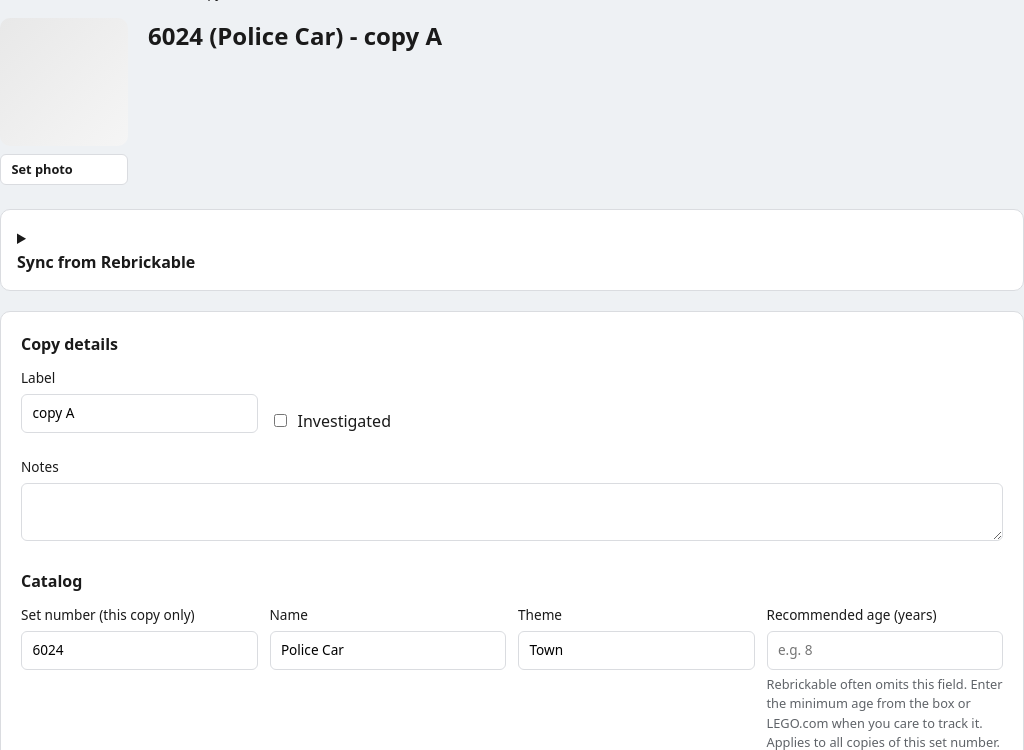
Test: SetDetailPage › shows set number warning and restores on cancel
The image size is (1024, 750).
Expected: the heading "Copy details" is shown, [21, 333, 118, 355]
Replace the text in the field showing "6024" with "8888" at (139, 650), box [21, 631, 258, 670]
(page scrolled)
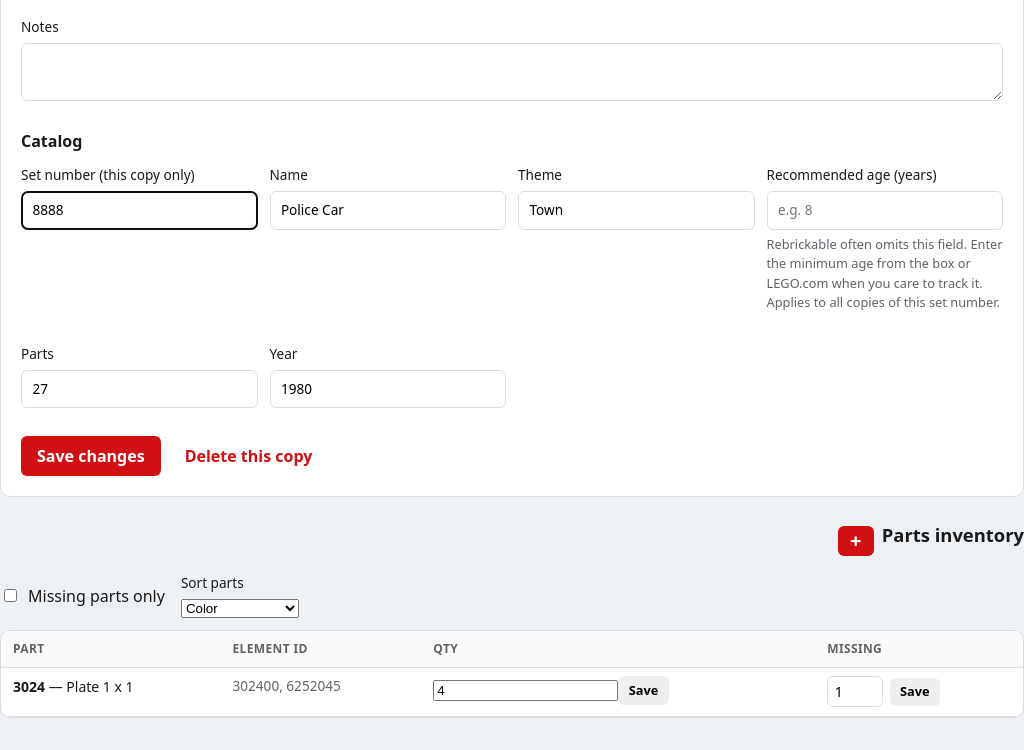
Click the button "Save changes".
click(91, 456)  # box [21, 436, 161, 476]
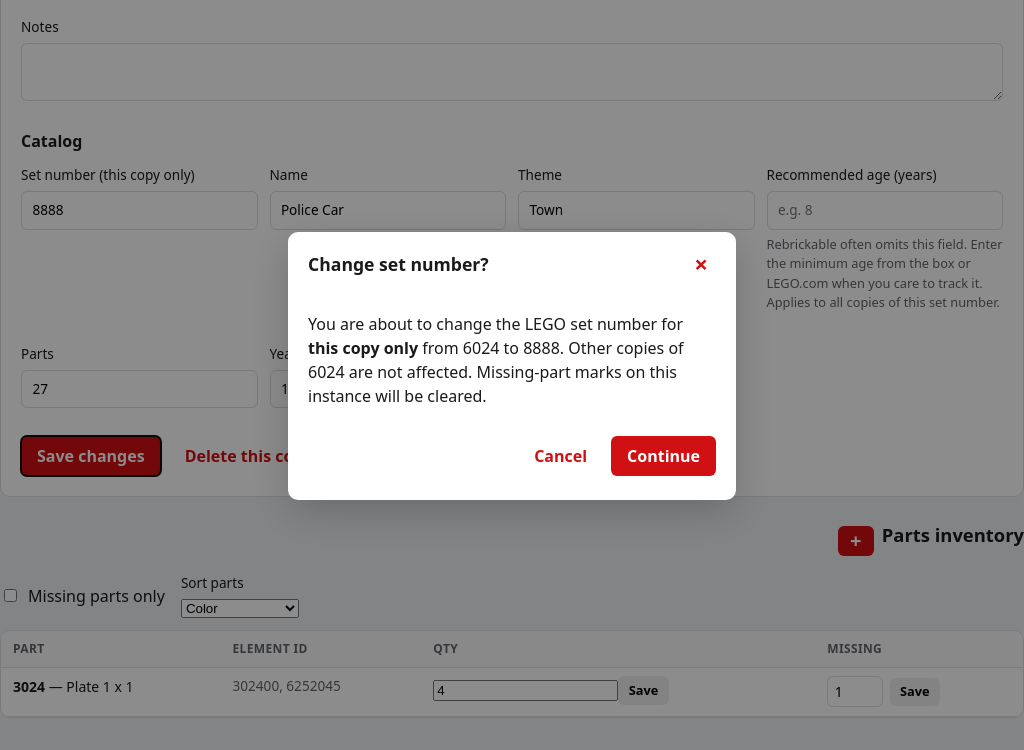
Now the heading "Change set number?" is shown, box [308, 251, 489, 277]
Click the button "Cancel".
click(561, 456)  # box [518, 436, 603, 476]
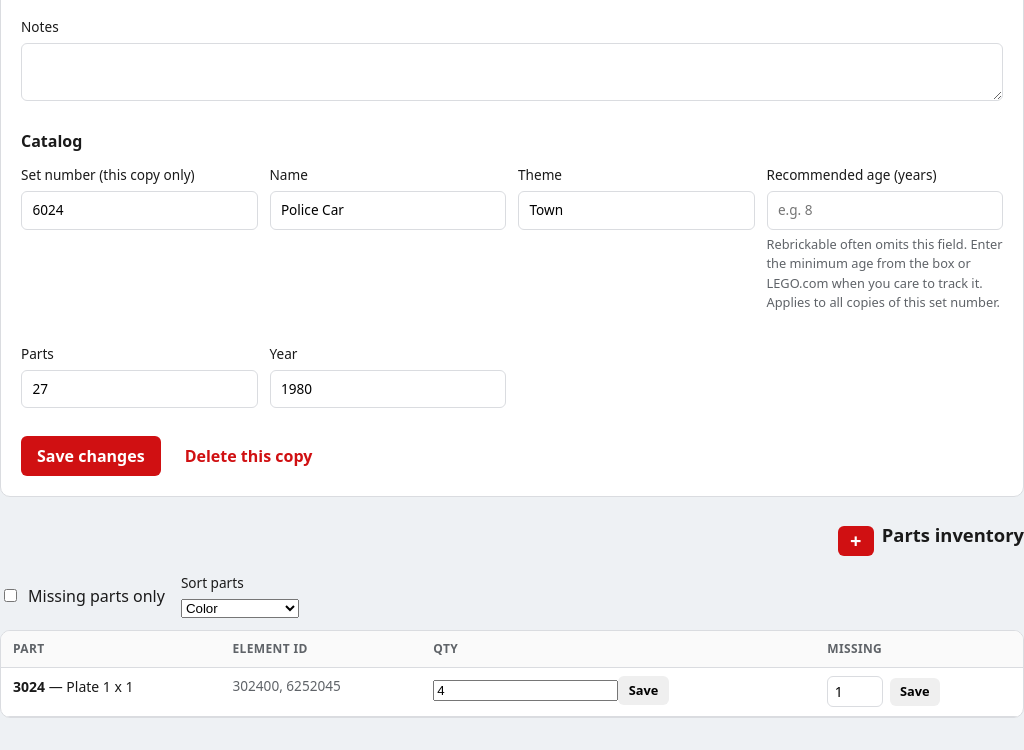
Now the dialog is gone
Now the field showing "6024" holds "6024", box [21, 191, 258, 230]
